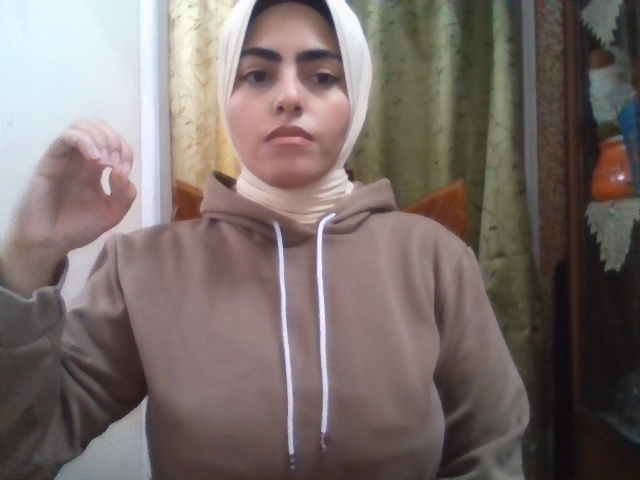O: (6, 117, 138, 258)
